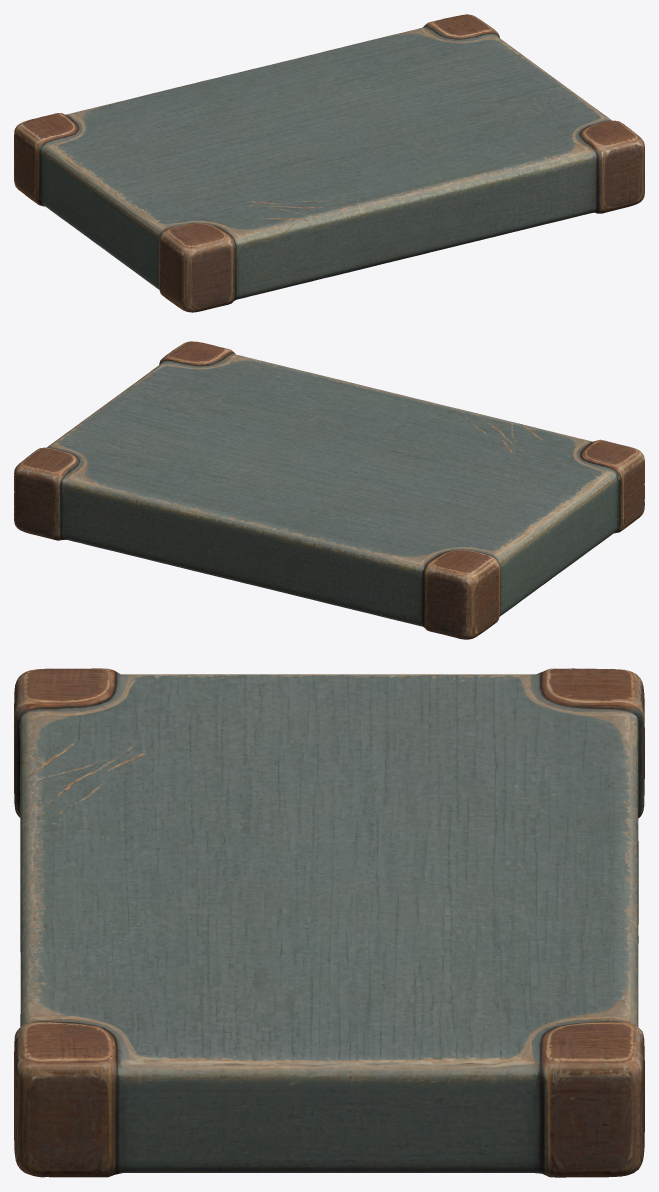
File: Furn_ToyChest_Lid.fbx
3 renders of one model, top to bottom at view 1: azimuth 30°, elevation 25°; view 2: azimuth 150°, elevation 25°; view 3: azimuth 270°, elevation 25°, orthographic. The views are drawn at different scales.
Parts seen in each view (by area): view 1: texture_mapping; view 2: texture_mapping; view 3: texture_mapping.
Boxes of the visible parts, box(x1,y1,x2,y2) form: texture_mapping: box(14, 14, 644, 312); texture_mapping: box(14, 341, 644, 639); texture_mapping: box(14, 668, 644, 1177).
Size of the model in its own units: 0.9981 by 0.661 by 0.1418.
Materials: 1 (1 with a texture image).
